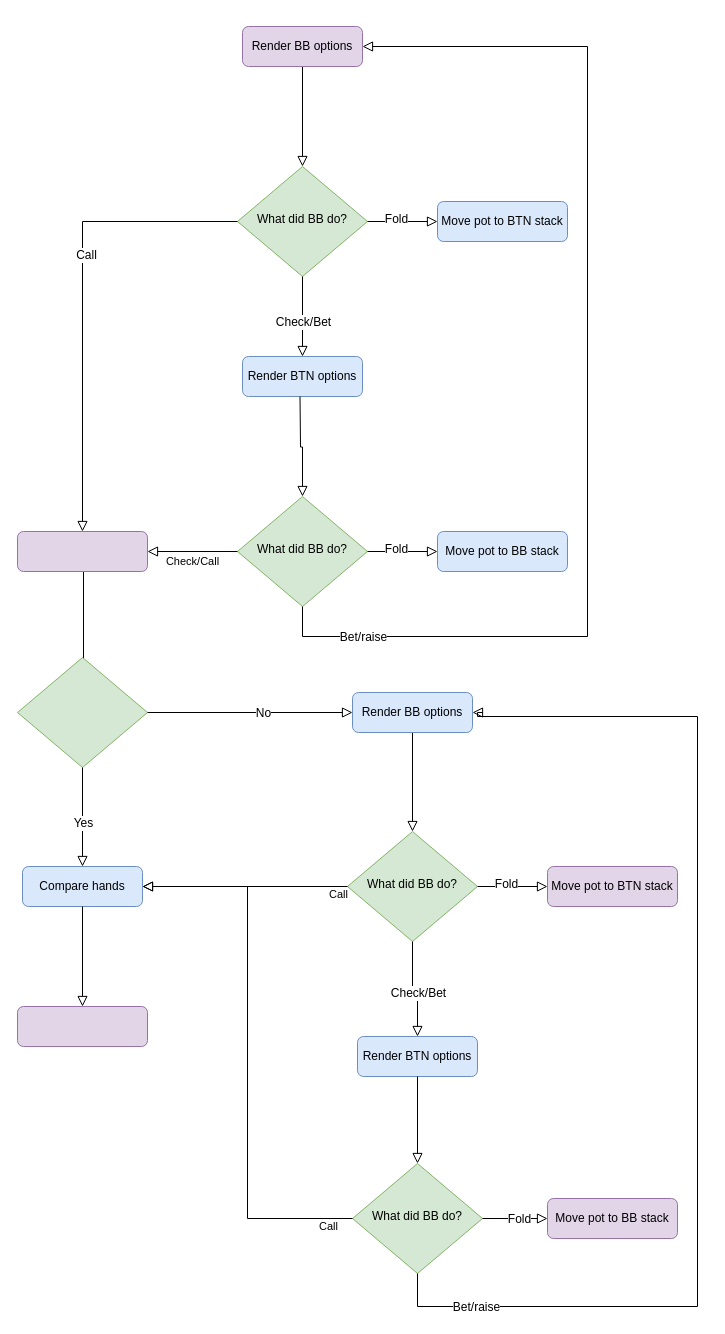
Some shapes in this 725 by 1334 pixel diagram are drawn without their labels. The shapes that lost their labels are listed below. From the top down, each one's centre as x and y in pixels, then its label:
At point 82,551: "Deal River".
At point 82,712: "Are players allin?".
At point 82,1026: "Move pot to winning player".
